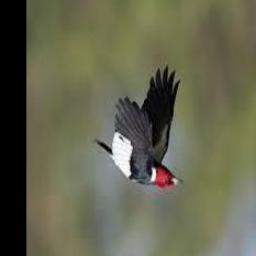Woodpecker: (92, 67, 183, 190)
